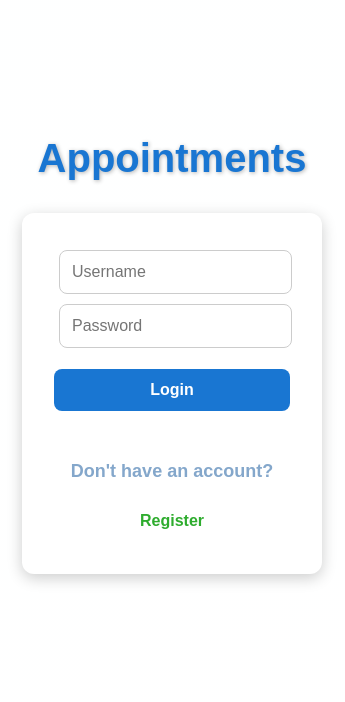
Test: Login Component › displays error message on registration failure
Click the button "Register" at (172, 521), box [128,500,216,542]
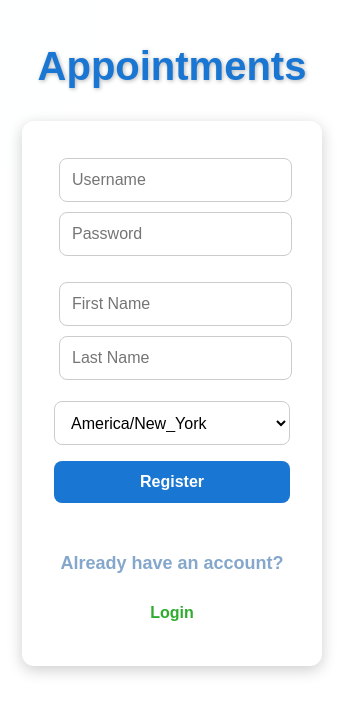
Type "existinguser" into the field with placeholder "Username" at (176, 180), box [59,158,292,202]
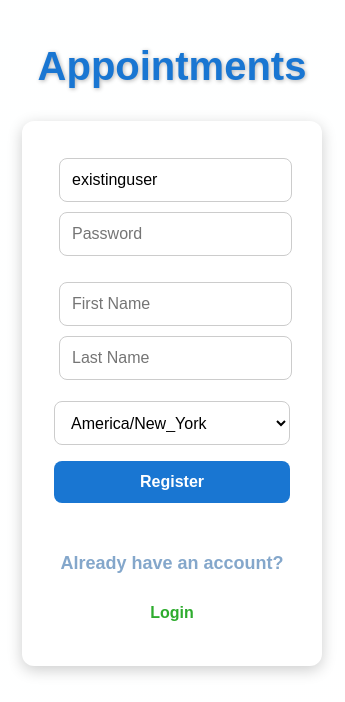
Type "password" into the password field with placeholder "Password" at (176, 234), box [59,212,292,256]
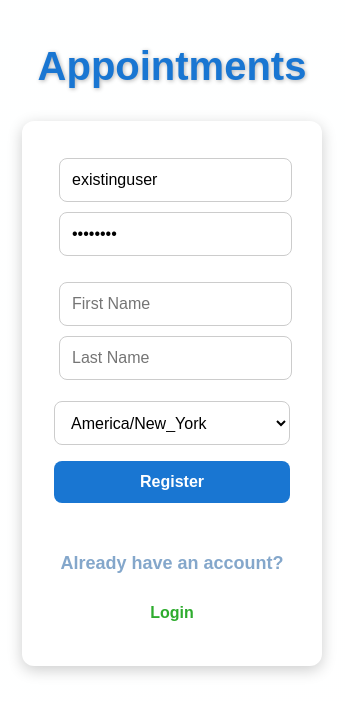
Type "John" into the field with placeholder "First Name" at (176, 304), box [59,282,292,326]
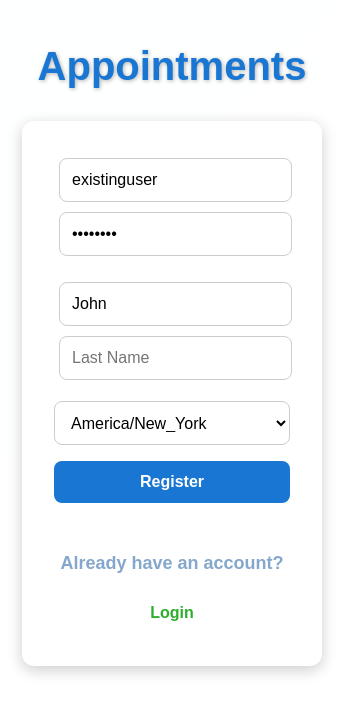
Click the button "Register" at (172, 482), box [54,461,290,503]
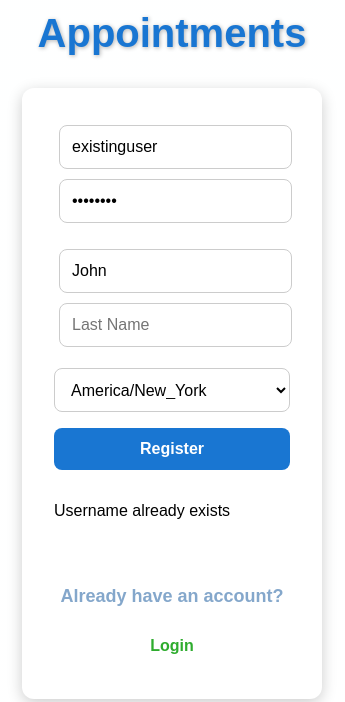
Result: the text "Username already exists" is shown at [54,502,230,519]
